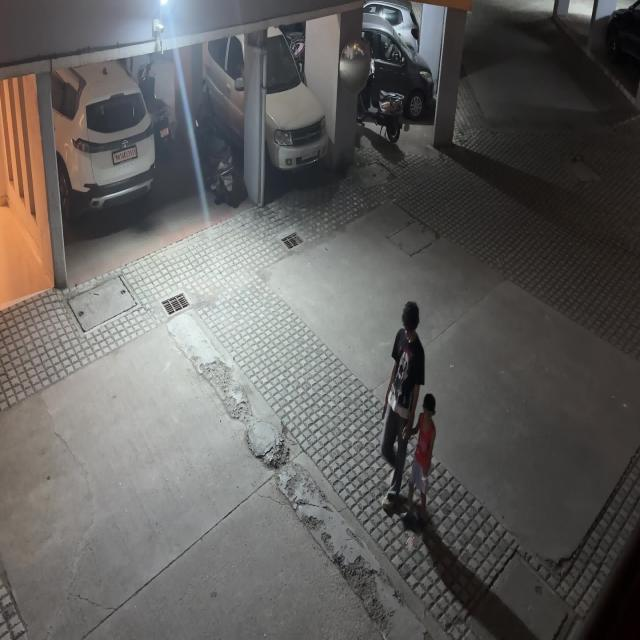human: (375, 298, 427, 511), (409, 368, 440, 527)
trash: (402, 520, 417, 557)
